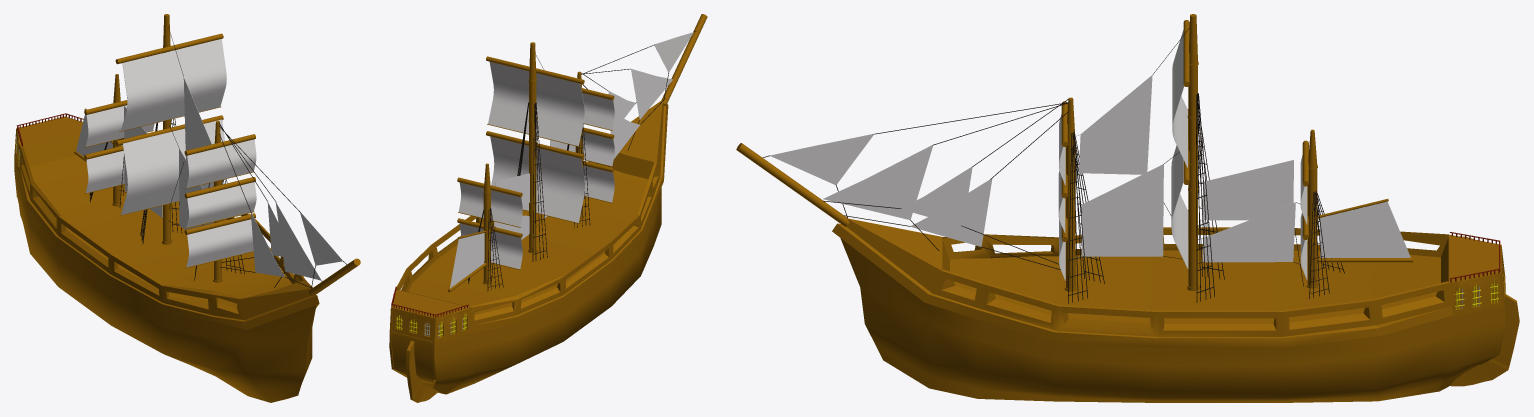
Rendered from ship.fbx.
3 renders of one model, left to right at view 1: azimuth 30°, elevation 25°; view 2: azimuth 150°, elevation 25°; view 3: azimuth 270°, elevation 25°, orthographic. The views are drawn at different scales.
Visible parts, largest first — view 1: Ship; view 2: Ship; view 3: Ship.
Part boxes in pixels (left/top/right/bottom): Ship: left=14, top=14, right=360, bottom=402; Ship: left=389, top=14, right=707, bottom=402; Ship: left=736, top=14, right=1519, bottom=402.
Bounding box in the file's own units: 28.41 × 57.01 × 108.
